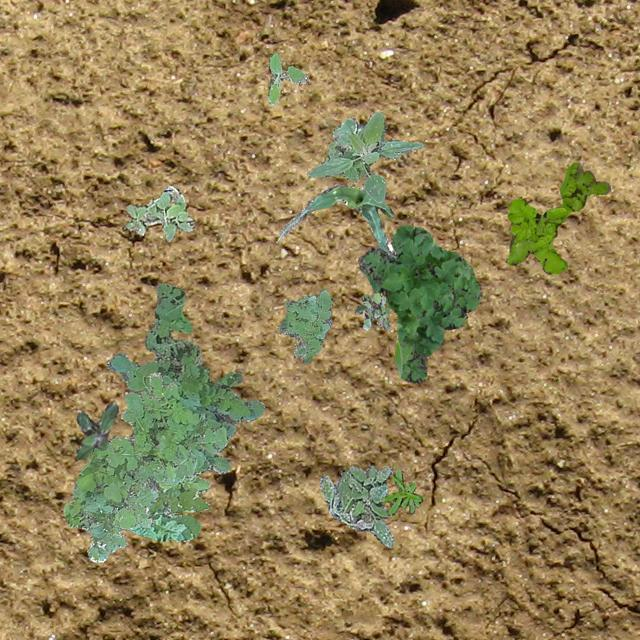crop: (306, 110, 422, 202), (278, 185, 396, 258)
weed: (105, 282, 264, 540), (62, 372, 226, 560), (356, 224, 481, 382), (504, 162, 610, 274), (318, 464, 394, 546), (276, 288, 332, 362), (124, 184, 194, 240), (74, 402, 118, 458), (266, 52, 308, 104), (381, 468, 422, 514), (354, 292, 388, 330)
